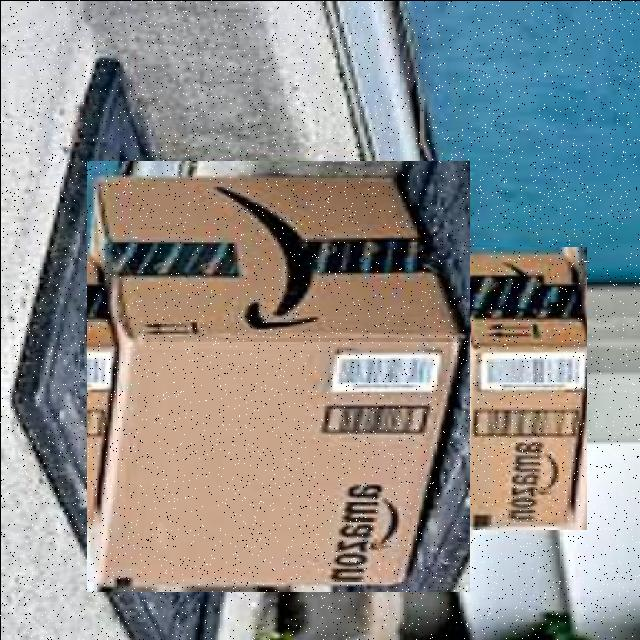normal: (86, 160, 469, 591), (443, 246, 586, 529)
